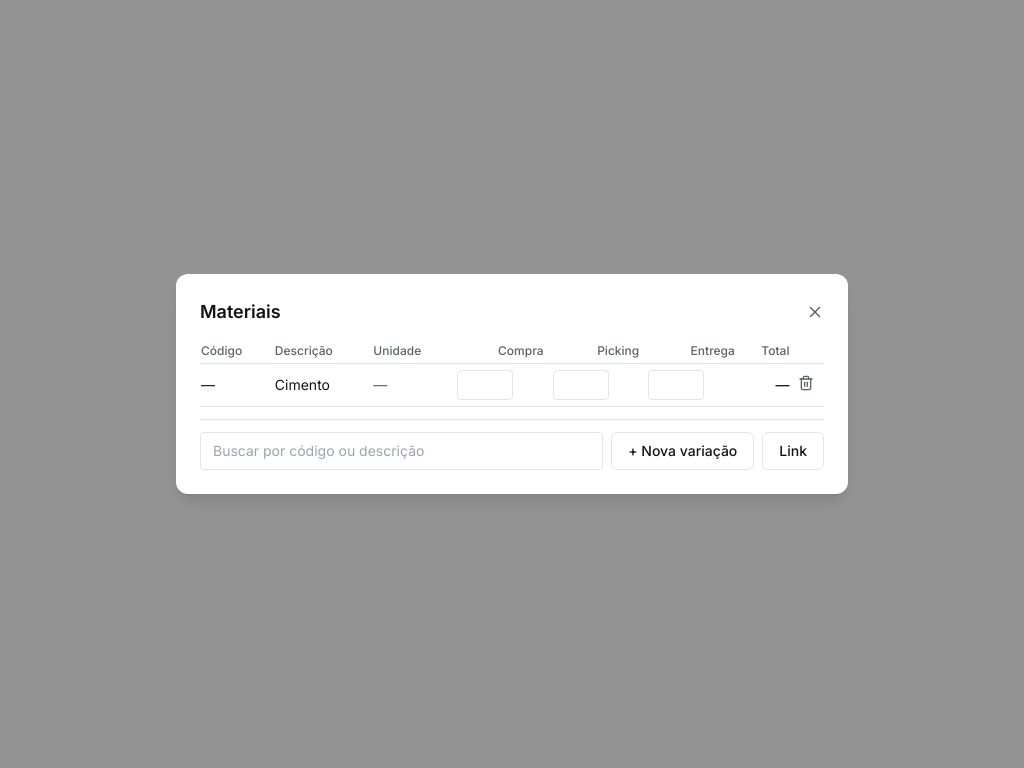
MaterialsPopup › o botão "+ Nova variação" abre o formulário de cadastro direto, sem precisar buscar antes
The image size is (1024, 768).
Expected: the field labelled "Material" is not shown
Click the button "+ Nova variação".
click(683, 451)  # box [611,432,754,470]
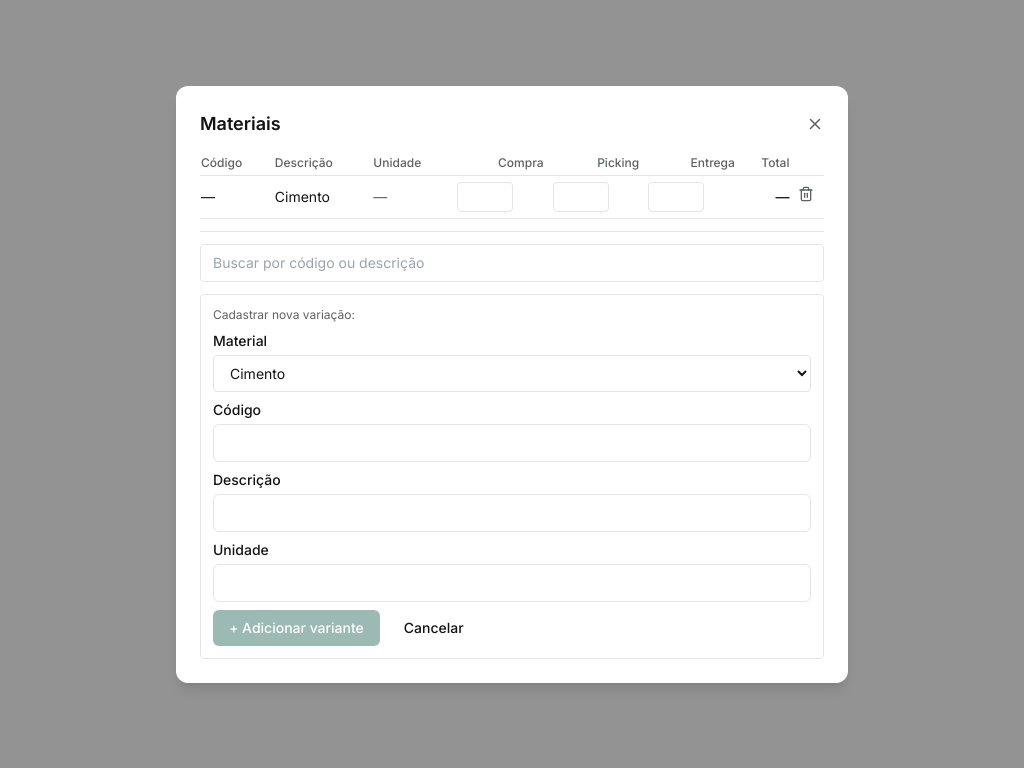
Now the dropdown labelled "Material" is shown, box [213,354,811,392]
Now the field labelled "Código" is shown, box [213,424,811,462]
Now the field labelled "Unidade" is shown, box [213,564,811,602]
